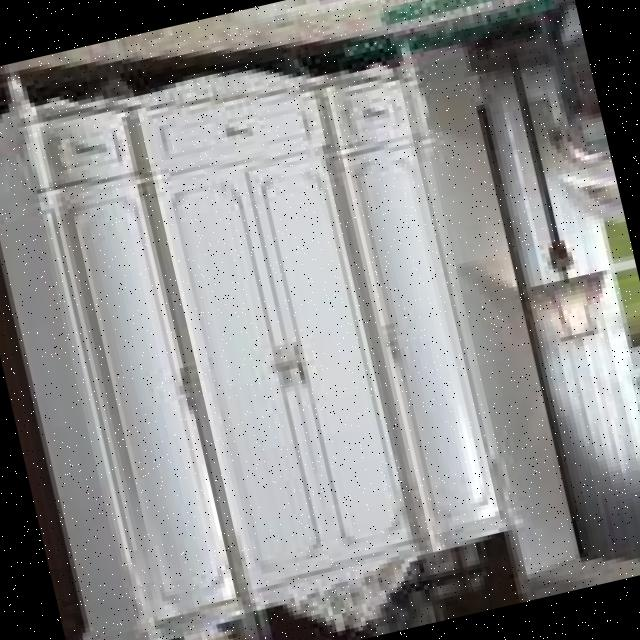Closet: (0, 0, 546, 640)
